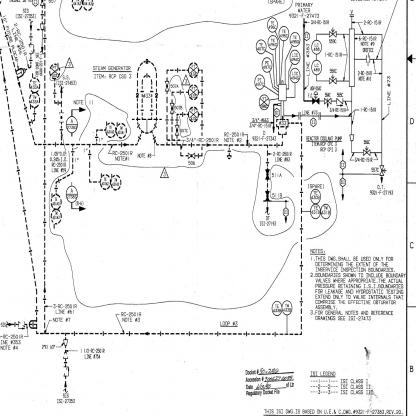LMI: (310, 188, 322, 204), (261, 56, 272, 73), (254, 73, 265, 90), (310, 204, 321, 221), (271, 300, 282, 317), (321, 203, 331, 221), (290, 31, 301, 47), (267, 17, 278, 33), (255, 39, 266, 54), (311, 60, 322, 75), (290, 49, 300, 65), (311, 40, 322, 54), (279, 26, 289, 41), (268, 35, 278, 50), (290, 68, 300, 83), (282, 300, 292, 315)
